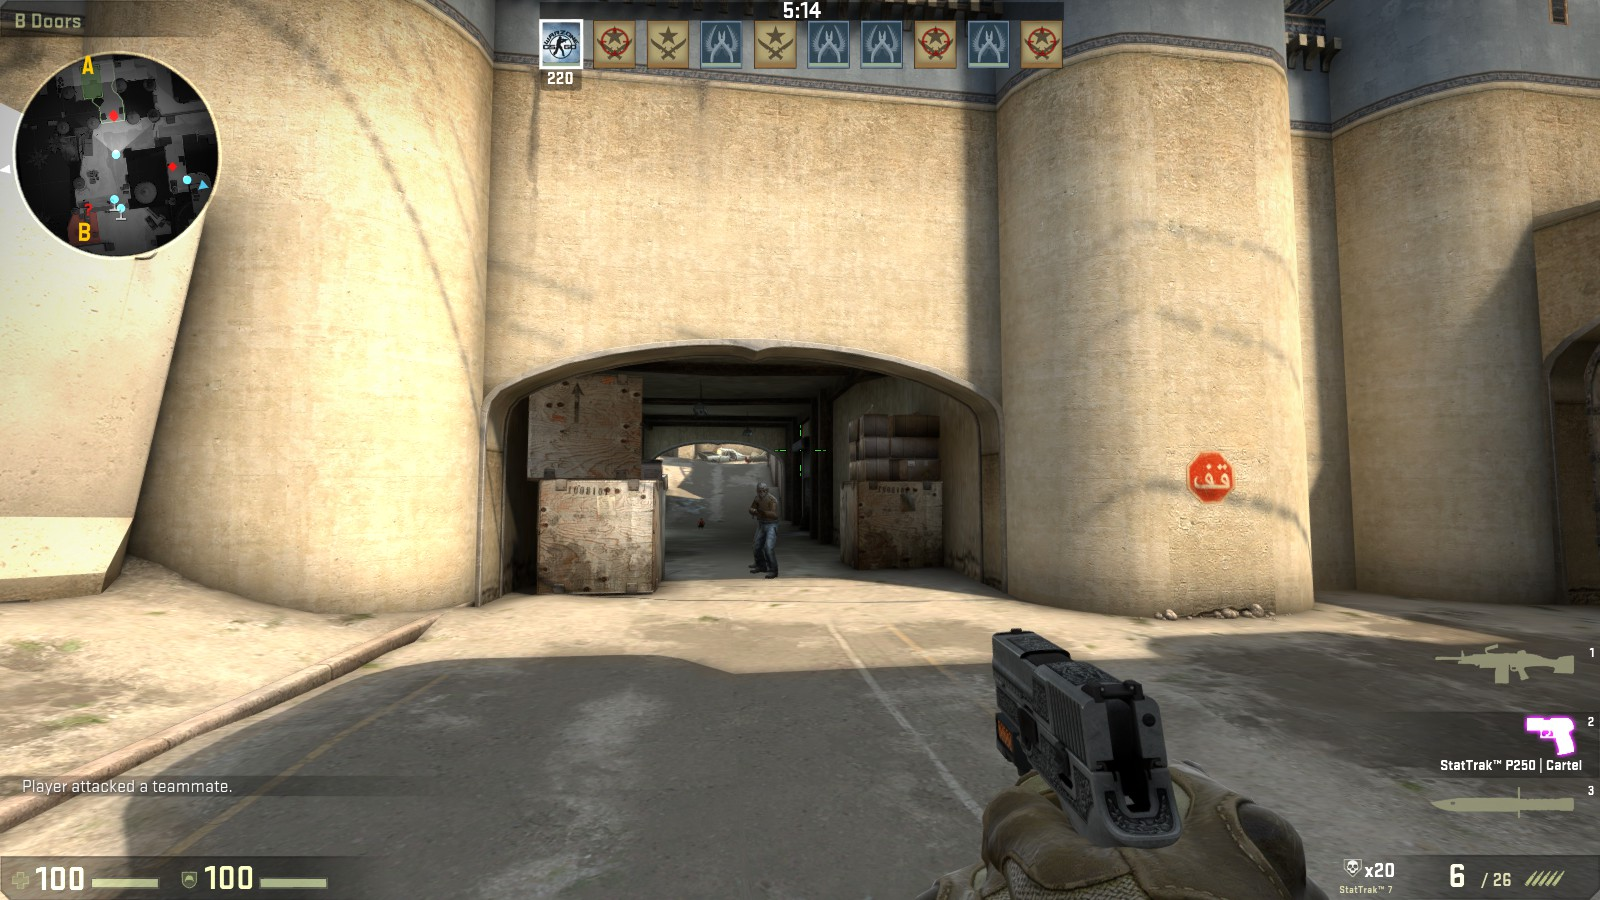t: (749, 481, 782, 579)
th: (755, 484, 770, 498)
